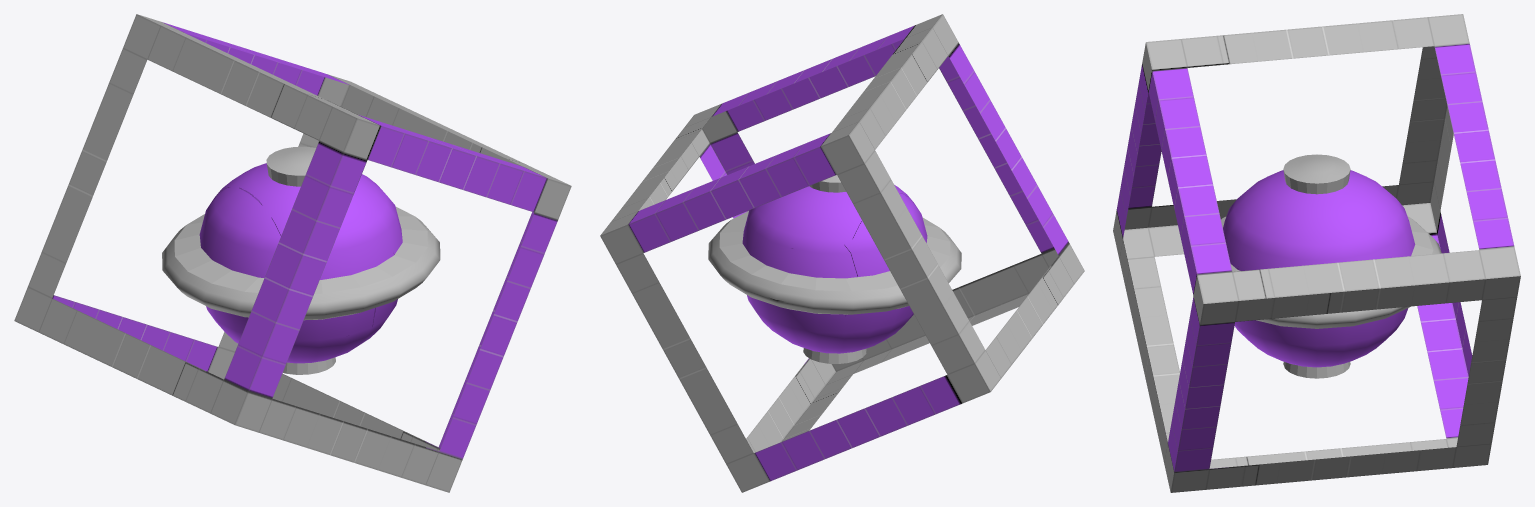
Rendered from catalyst.fbx.
3 views of the same model, side by side, from view 1: azimuth 30°, elevation 25°; view 2: azimuth 150°, elevation 25°; view 3: azimuth 270°, elevation 25° (orthographic). The views are drawn at different scales.
Visible parts, largest first — view 1: pCube1, pSphere1; view 2: pCube1, pSphere1; view 3: pCube1, pSphere1.
Boxes of the visible parts, x1=… form: pCube1: x1=14, y1=14, x2=571, y2=492; pSphere1: x1=162, y1=146, x2=440, y2=374; pCube1: x1=600, y1=14, x2=1084, y2=492; pSphere1: x1=708, y1=175, x2=961, y2=363; pCube1: x1=1113, y1=14, x2=1520, y2=492; pSphere1: x1=1221, y1=154, x2=1441, y2=378.
Size of the model in its own units: 5.18 by 4.59 by 4.23.
Materials: 2 (2 with a texture image).
